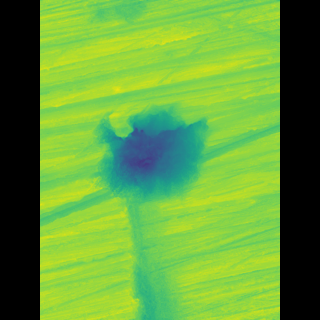Loch: (107, 104, 198, 204)
